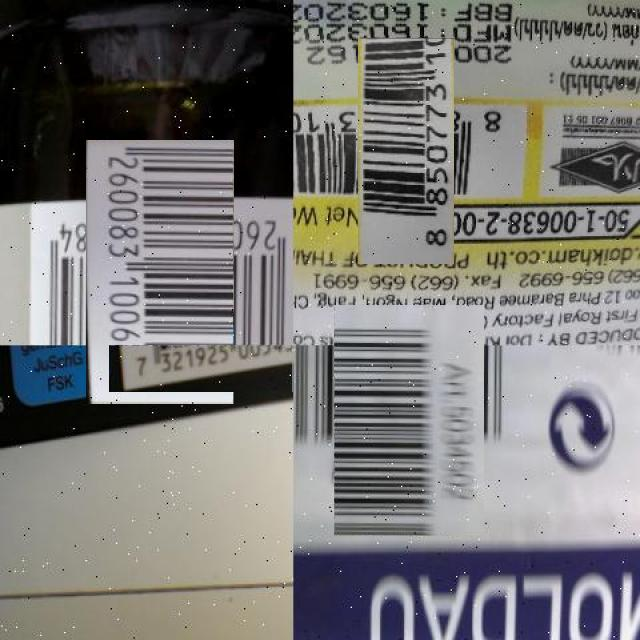Barcode: (57, 168, 264, 375), (314, 325, 505, 515), (325, 71, 487, 232), (110, 345, 294, 392)
